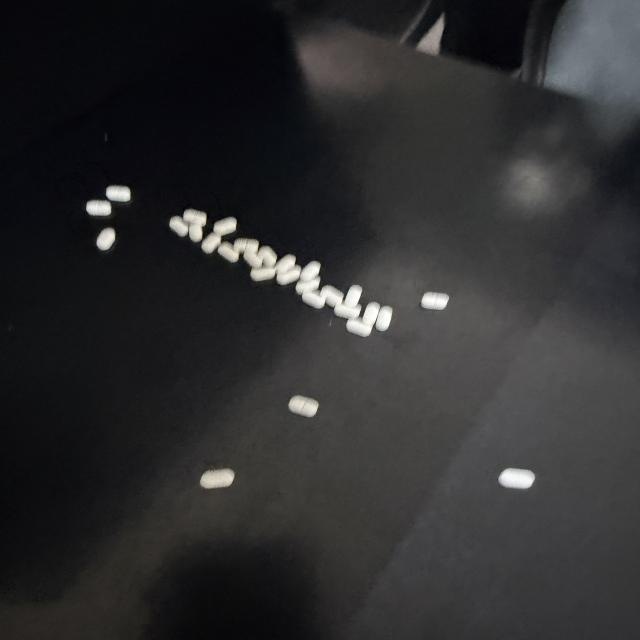pill: (498, 468, 535, 489), (200, 469, 234, 488), (289, 396, 318, 417), (421, 292, 449, 310), (322, 285, 343, 307), (85, 200, 112, 217), (96, 227, 115, 250), (277, 266, 300, 285), (362, 302, 380, 326), (347, 319, 372, 336), (218, 242, 239, 262), (257, 246, 277, 267), (300, 260, 321, 280), (213, 217, 236, 235), (106, 185, 130, 202), (296, 277, 320, 294), (376, 306, 392, 331), (201, 233, 221, 253), (183, 209, 206, 226), (302, 291, 325, 308), (276, 255, 296, 274), (170, 216, 188, 237), (344, 285, 362, 306), (335, 304, 360, 319), (234, 238, 259, 253), (251, 267, 275, 281), (244, 250, 262, 268), (189, 225, 202, 242), (234, 238, 247, 253)
